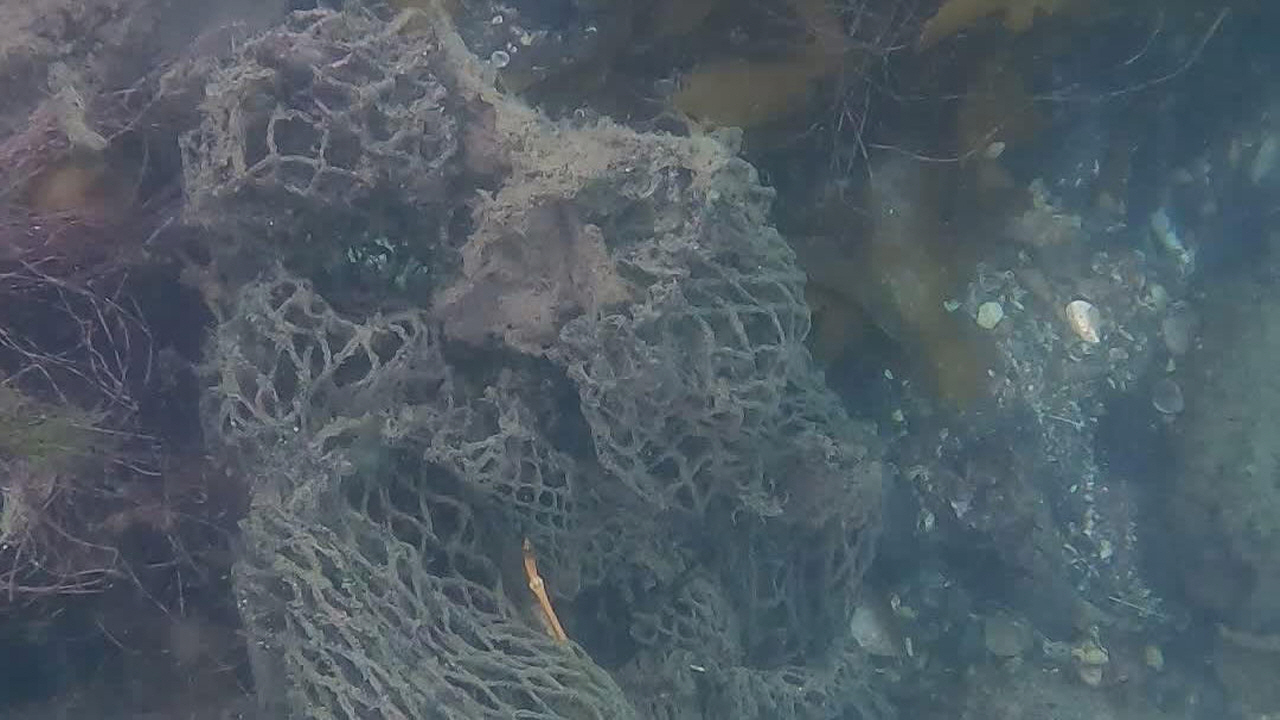fish net: (180, 0, 888, 720)
